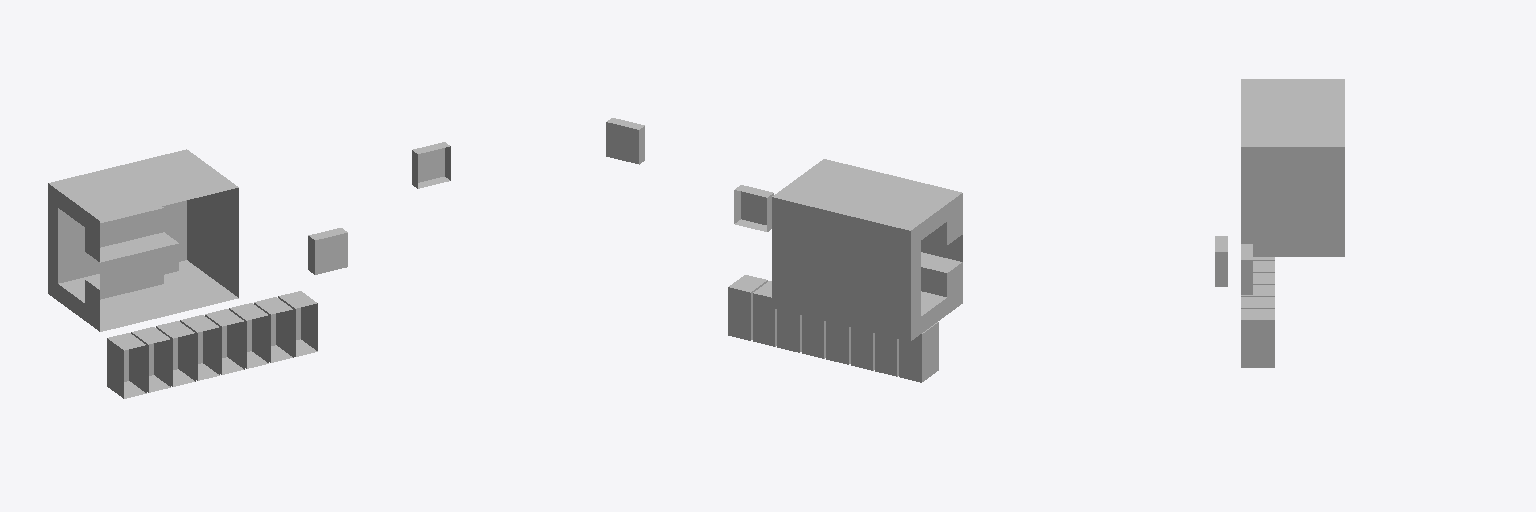
The model's file is solo12_base_25.obj.
3 renders of one model, left to right at view 1: azimuth 30°, elevation 25°; view 2: azimuth 150°, elevation 25°; view 3: azimuth 270°, elevation 25°, orthographic.
Size of the model in its own units: 0.053 by 0.0265 by 0.0171.